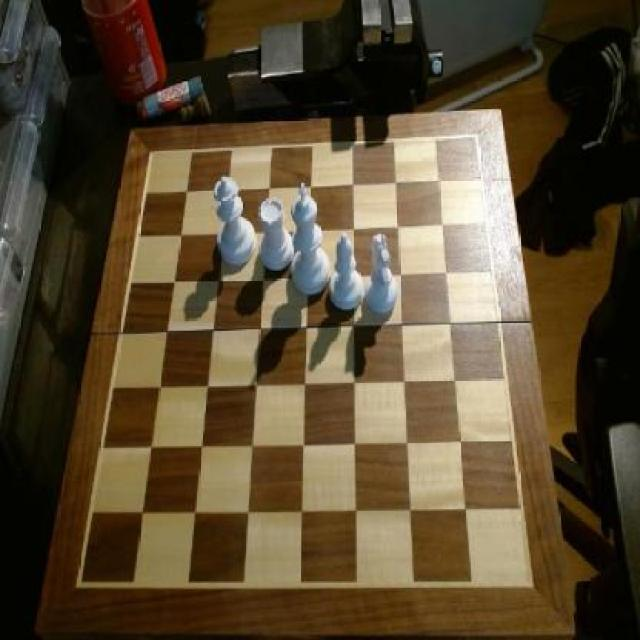black-rook: (331, 231, 366, 312)
white-bishop: (290, 185, 332, 298)
white-king: (366, 231, 400, 316)
white-pawn: (212, 177, 257, 269)
white-queen: (259, 197, 296, 275)
